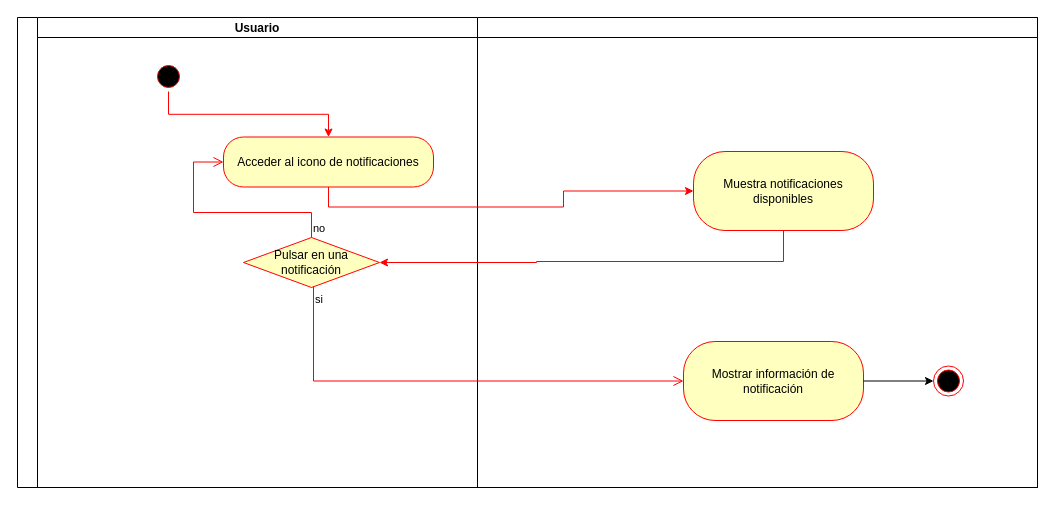
The diagram is 1055 pixels wide and 505 high, and some of its shapes have lost their labels. The shapes that lost their labels are listed below. From the top down, each one's box as (x1, y1, x2, y2) in pixels, then its label:
(16, 16, 1038, 488): CU029 Recibir Notificaciones internas
(476, 16, 1038, 488): Sistema
